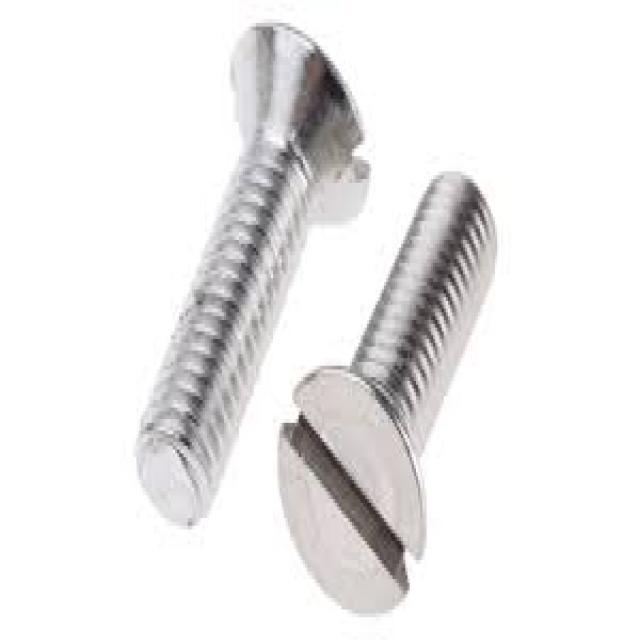Screw: (134, 19, 369, 533), (275, 171, 497, 617)
